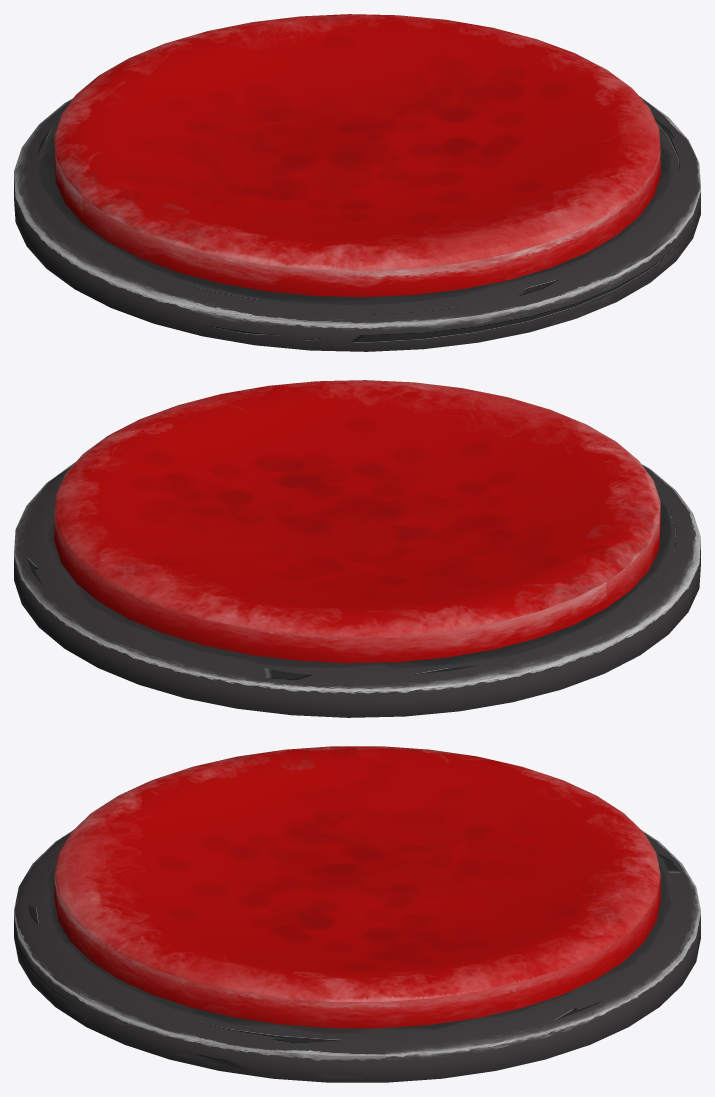
The model's file is button.fbx.
3 renders of one model, top to bottom at view 1: azimuth 30°, elevation 25°; view 2: azimuth 150°, elevation 25°; view 3: azimuth 270°, elevation 25°, orthographic.
Visible parts, largest first — view 1: Button, Cylinder; view 2: Button, Cylinder; view 3: Button, Cylinder.
Boxes of the visible parts, x1,y1,x2,y2 form: Button: (54, 14, 660, 297); Cylinder: (14, 96, 700, 351); Button: (54, 380, 660, 663); Cylinder: (14, 462, 700, 717); Button: (54, 746, 660, 1028); Cylinder: (14, 830, 700, 1082).
Size of the model in its own units: 1000 by 118 by 1004.
Materials: 1 (1 with a texture image).
